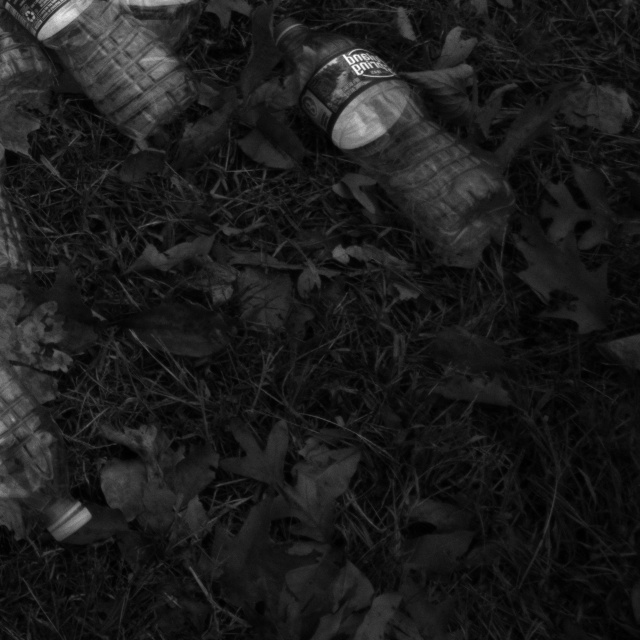bottle: (274, 13, 519, 266), (0, 0, 187, 145), (0, 257, 91, 552), (101, 0, 206, 69), (0, 0, 56, 127)
